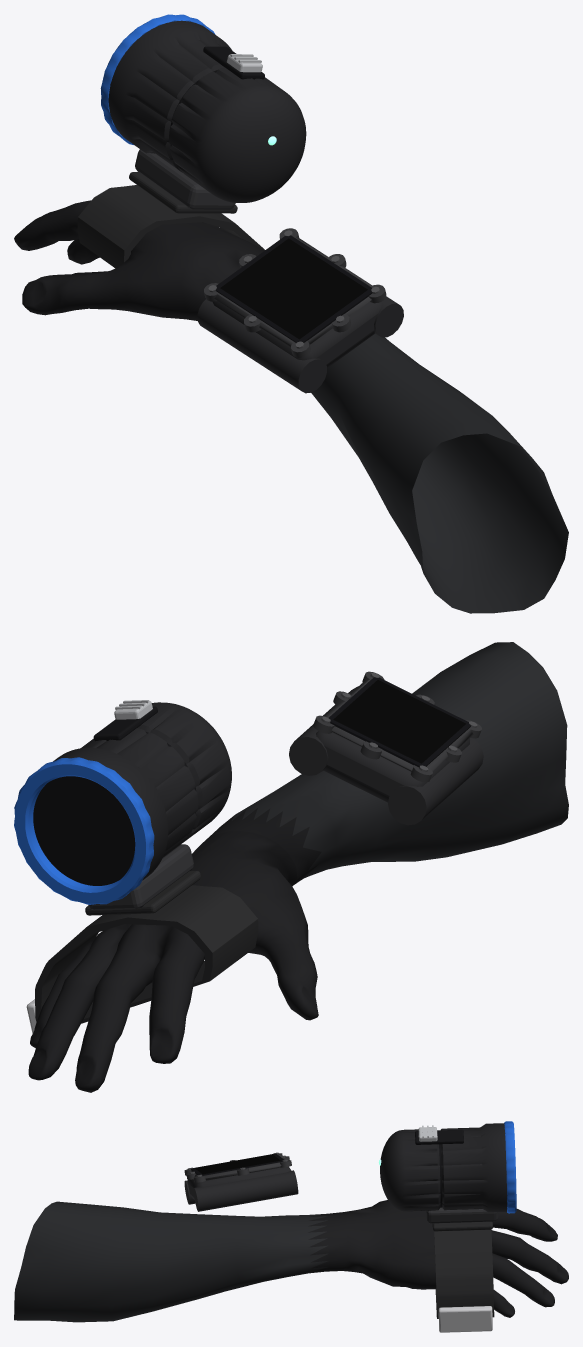
Rendered from diver-arm.glb.
The picture shows the model from 3 angles, top to bottom: view 1: azimuth 30°, elevation 25°; view 2: azimuth 150°, elevation 25°; view 3: azimuth 270°, elevation 25°; orthographic projection. The views are drawn at different scales.
Parts seen in each view (by area): view 1: diver-arm, dive-light, computer-screen, strap, computer-bar.001, computer-case, computer-glass, computer-bezel, computer-bar; view 2: diver-arm, dive-light, strap, computer-screen, computer-case, computer-bar.001, computer-glass, computer-bar, computer-bezel; view 3: diver-arm, dive-light, strap, computer-bar, Cube, computer-case, computer-screen, computer-bezel, computer-glass.
Boxes of the visible parts, x1,y1,x2,y2 form: diver-arm: (14, 200, 568, 613); dive-light: (100, 14, 306, 213); computer-screen: (220, 238, 367, 339); strap: (77, 185, 264, 268); computer-bar.001: (197, 299, 326, 393); computer-case: (212, 301, 382, 367); computer-glass: (215, 235, 372, 342); computer-bezel: (214, 237, 372, 347); computer-bar: (374, 296, 403, 337); diver-arm: (28, 642, 568, 1092); dive-light: (14, 700, 231, 915); strap: (35, 885, 258, 1023); computer-screen: (333, 680, 465, 763); computer-case: (316, 731, 469, 802); computer-bar.001: (388, 737, 483, 825); computer-glass: (328, 677, 471, 767); computer-bar: (289, 686, 357, 775); computer-bezel: (325, 679, 473, 771); diver-arm: (14, 1200, 568, 1322); dive-light: (378, 1121, 516, 1231); strap: (434, 1229, 494, 1318); computer-bar: (193, 1170, 298, 1211); Cube: (438, 1306, 492, 1332); computer-case: (187, 1166, 290, 1199); computer-screen: (195, 1154, 280, 1174); computer-bezel: (190, 1162, 281, 1180); computer-glass: (191, 1153, 283, 1175).
Size of the model in its own units: 0.103 by 0.1267 by 0.3101.
